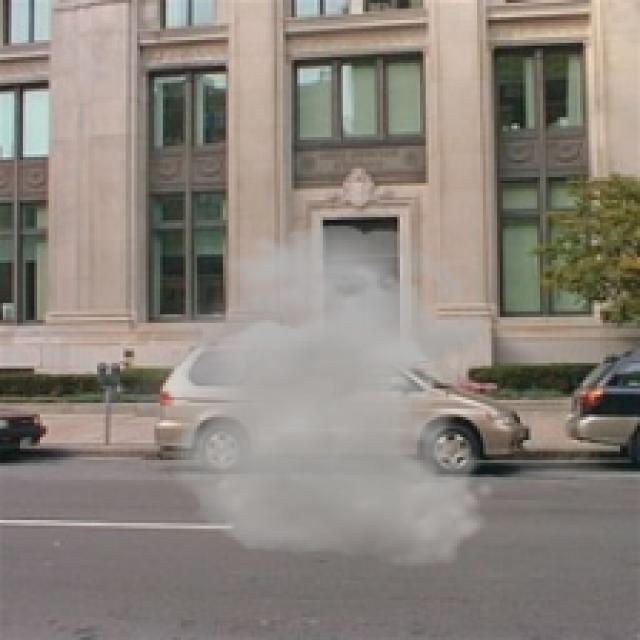Smoke: (120, 226, 497, 568)
